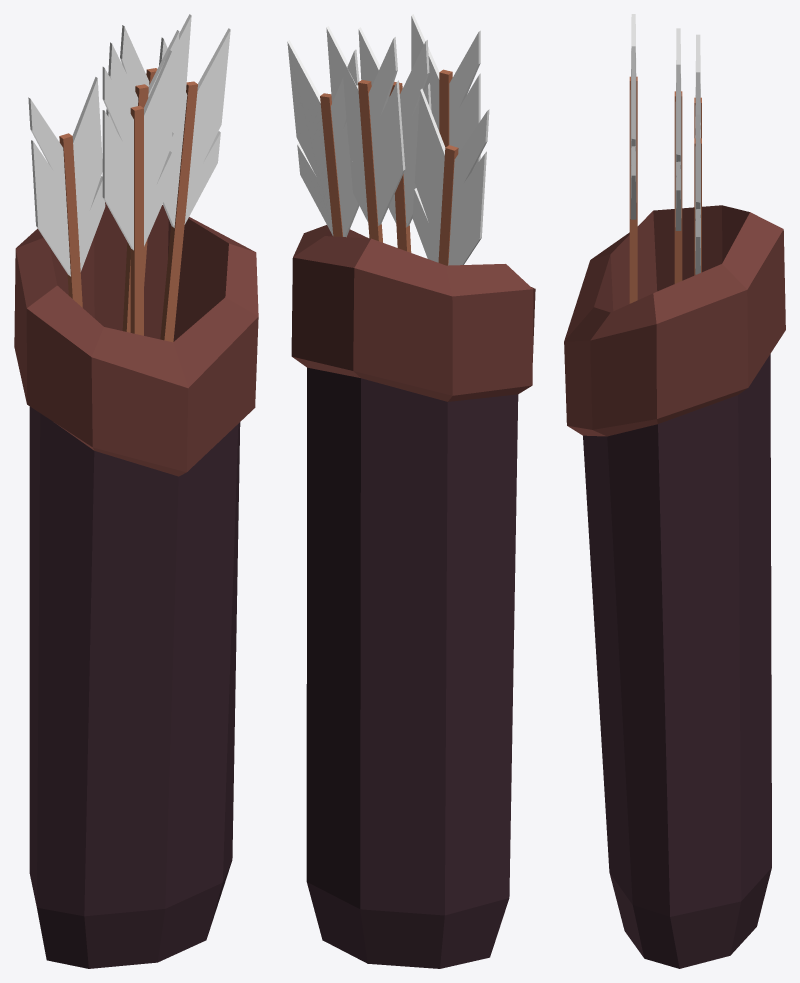
File: Quiver.fbx
3 renders of one model, left to right at view 1: azimuth 30°, elevation 25°; view 2: azimuth 150°, elevation 25°; view 3: azimuth 270°, elevation 25°, orthographic.
Visible parts, largest first — view 1: Quiver, Arrow Stone 01.001, Arrow Stone 01.002, Arrow Stone 01.004, Arrow Stone 01.003, Arrow Stone 01.005; view 2: Quiver, Arrow Stone 01.002, Arrow Stone 01.005, Arrow Stone 01.004, Arrow Stone 01.001, Arrow Stone 01.003; view 3: Quiver, Arrow Stone 01.001, Arrow Stone 01.003, Arrow Stone 01.004, Arrow Stone 01.005.
Boxes of the visible parts, x1=… form: Quiver: x1=14, y1=202, x2=258, y2=968; Arrow Stone 01.001: x1=102, y1=50, x2=171, y2=335; Arrow Stone 01.002: x1=28, y1=77, x2=105, y2=307; Arrow Stone 01.004: x1=159, y1=28, x2=230, y2=342; Arrow Stone 01.003: x1=106, y1=30, x2=179, y2=332; Arrow Stone 01.005: x1=120, y1=14, x2=191, y2=285; Quiver: x1=291, y1=225, x2=535, y2=968; Arrow Stone 01.002: x1=412, y1=88, x2=489, y2=265; Arrow Stone 01.005: x1=326, y1=26, x2=405, y2=242; Arrow Stone 01.004: x1=287, y1=40, x2=359, y2=237; Arrow Stone 01.001: x1=411, y1=14, x2=480, y2=170; Arrow Stone 01.003: x1=358, y1=27, x2=431, y2=252; Quiver: x1=564, y1=205, x2=785, y2=968; Arrow Stone 01.001: x1=629, y1=14, x2=637, y2=303; Arrow Stone 01.003: x1=674, y1=28, x2=682, y2=283; Arrow Stone 01.004: x1=694, y1=114, x2=701, y2=275; Arrow Stone 01.005: x1=694, y1=34, x2=701, y2=138.
Size of the model in its own units: 29.95 by 113 by 25.38.
